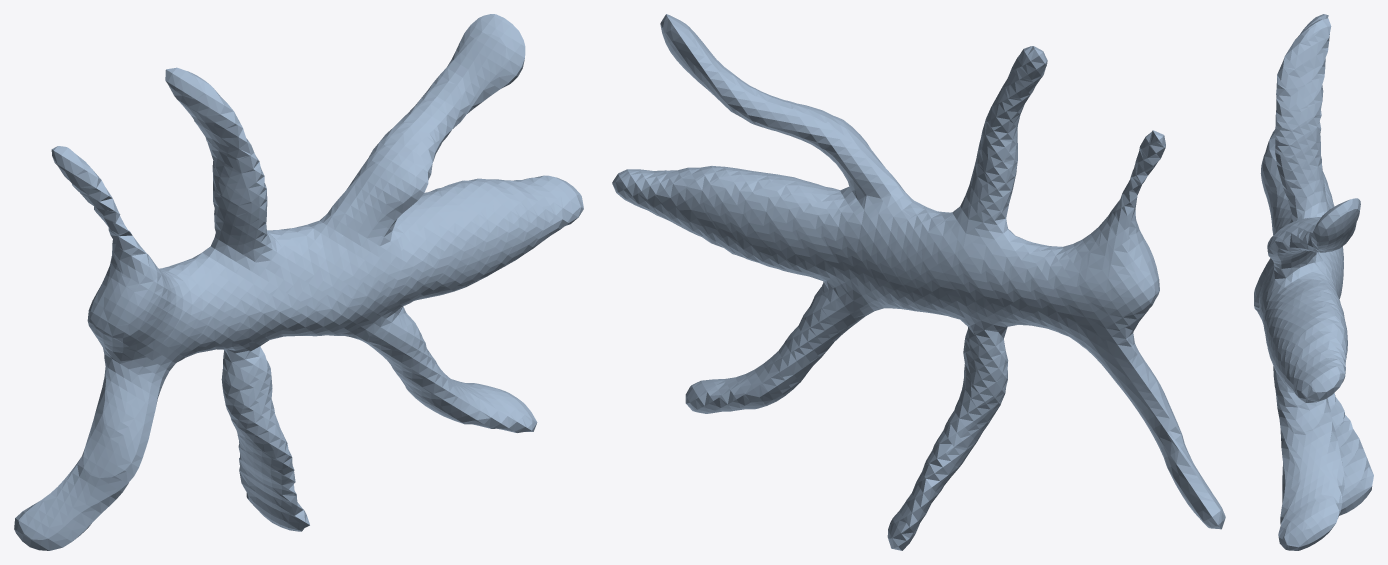
3 views of the same model, side by side, from view 1: azimuth 30°, elevation 25°; view 2: azimuth 150°, elevation 25°; view 3: azimuth 270°, elevation 25° (orthographic). The views are drawn at different scales.
Visible parts, largest first — view 1: ours_mesh; view 2: ours_mesh; view 3: ours_mesh.
Boxes of the visible parts, <box> form: ours_mesh: <box>14,14,583,550</box>; ours_mesh: <box>612,14,1225,550</box>; ours_mesh: <box>1254,14,1373,550</box>.
Size of the model in its own units: 0.5995 by 0.5008 by 0.1227.
